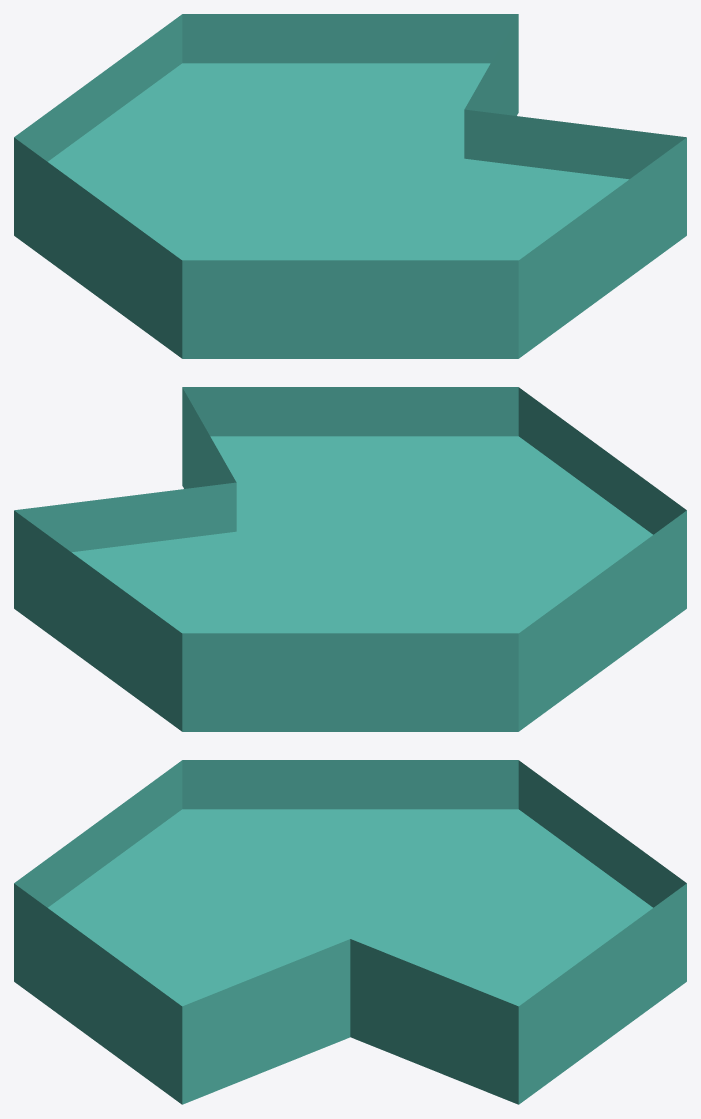
Rendered from lily_small.fbx.
3 renders of one model, top to bottom at view 1: azimuth 30°, elevation 25°; view 2: azimuth 150°, elevation 25°; view 3: azimuth 270°, elevation 25°, orthographic.
Visible parts, largest first — view 1: lily_small; view 2: lily_small; view 3: lily_small.
Boxes of the visible parts, x1,y1,x2,y2 form: lily_small: [14, 14, 686, 358]; lily_small: [14, 387, 686, 731]; lily_small: [14, 760, 686, 1104].
Bounding box in the file's own units: 1.77 × 0.33 × 2.05.
